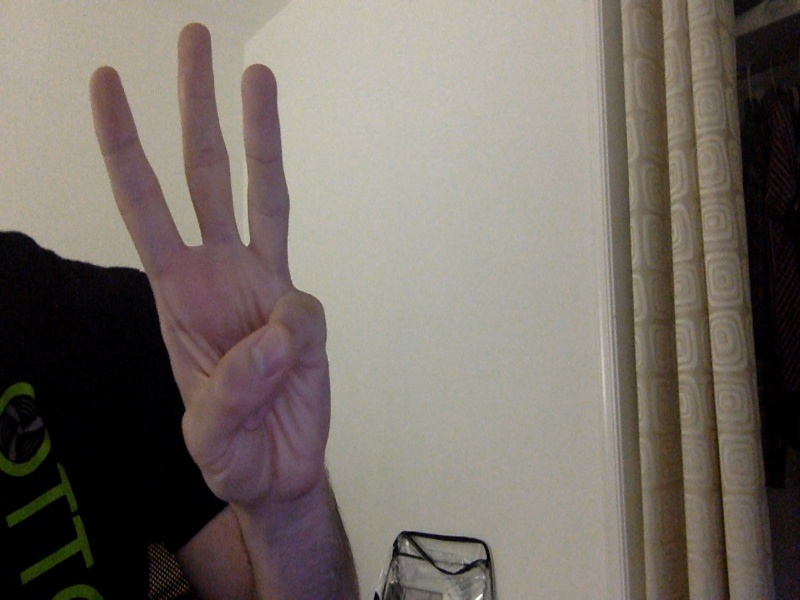3-hand: (86, 23, 332, 502)
